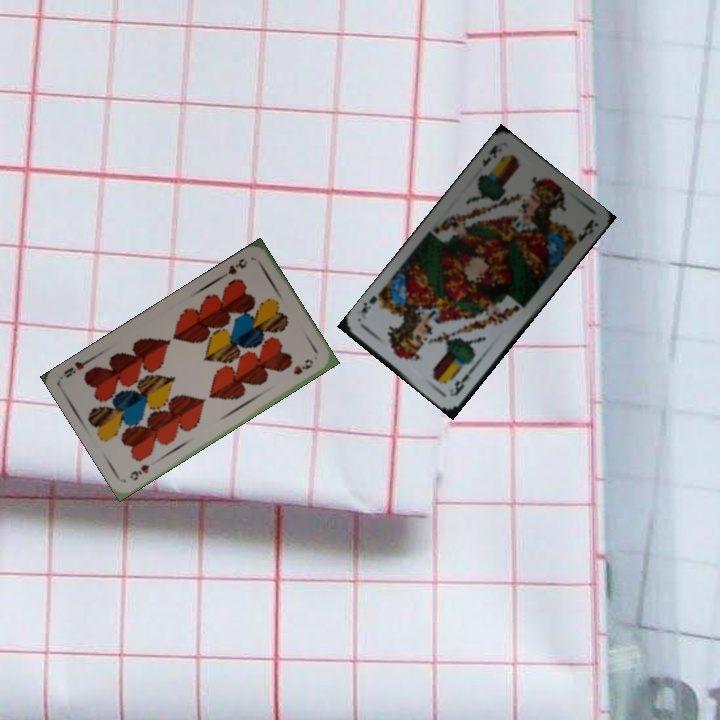EK: (450, 363, 477, 399), (478, 140, 500, 170)
H9: (218, 254, 250, 281), (125, 460, 152, 483)
